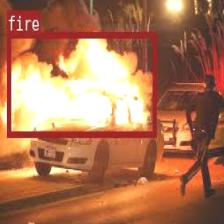fire: (7, 32, 156, 136)
